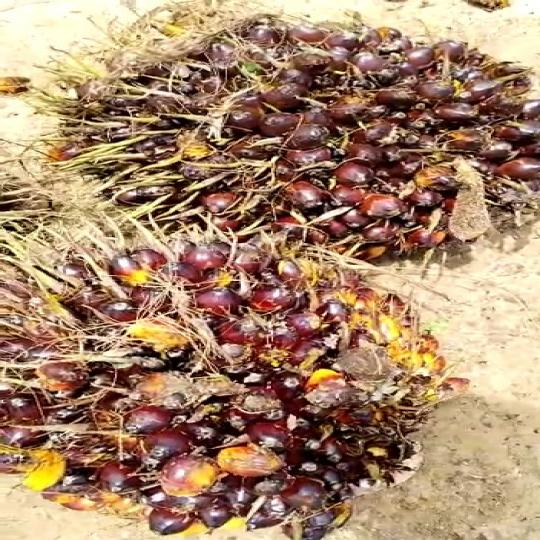masak: (0, 217, 430, 539), (28, 13, 540, 253)
